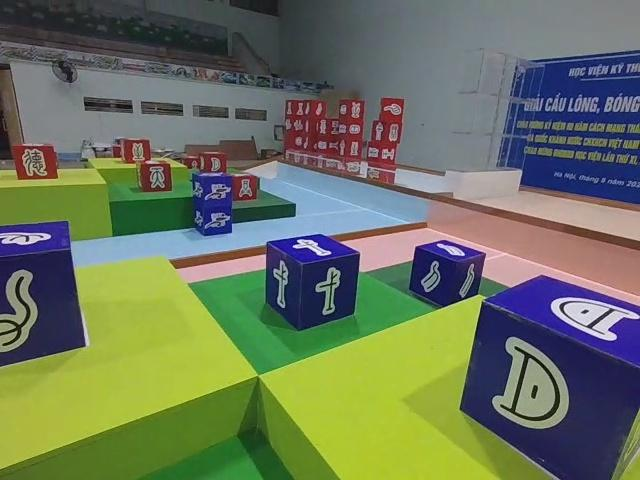R2 Real Blue: (462, 269, 639, 480), (0, 217, 88, 364), (263, 234, 359, 331), (409, 240, 486, 309)
